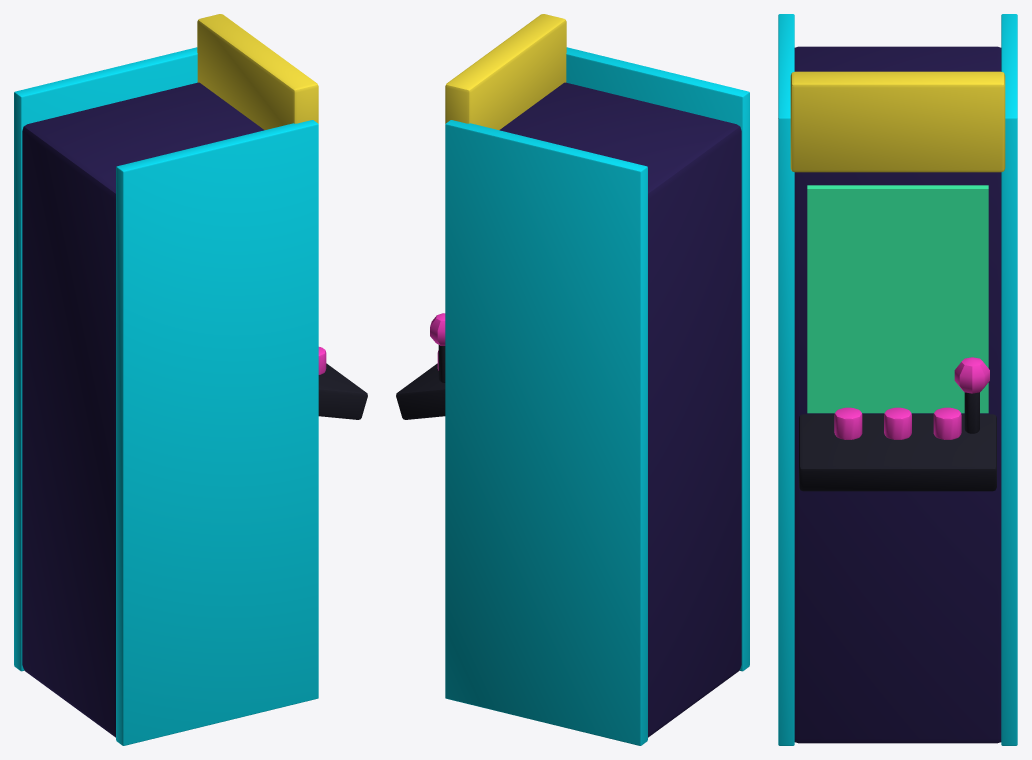
The model's file is HeroPixel.fbx.
3 views of the same model, side by side, from view 1: azimuth 30°, elevation 25°; view 2: azimuth 150°, elevation 25°; view 3: azimuth 270°, elevation 25° (orthographic). The views are drawn at different scales.
Visible parts, largest first — view 1: HeroPixel; view 2: HeroPixel; view 3: HeroPixel.
Boxes of the visible parts, x1,y1,x2,y2 form: HeroPixel: (14, 14, 367, 745); HeroPixel: (396, 14, 749, 745); HeroPixel: (778, 14, 1017, 745).
Bounding box in the file's own units: 391 × 890 × 290.
